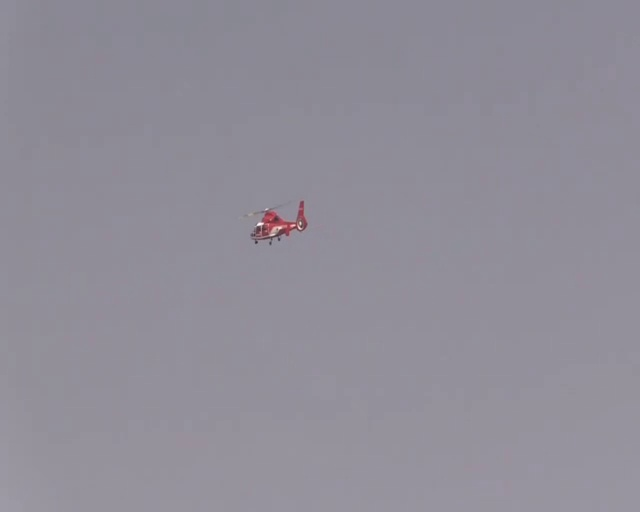HELICOPTER: (244, 198, 307, 245)
